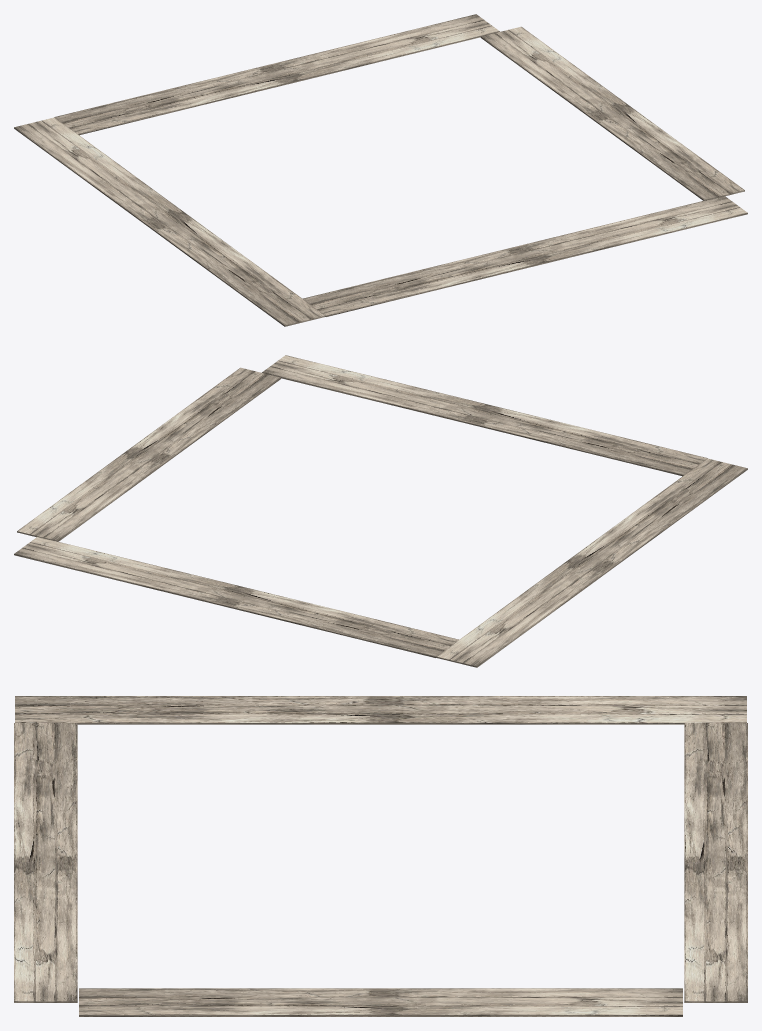
The model's file is SideWalk.fbx.
The picture shows the model from 3 angles, top to bottom: view 1: azimuth 30°, elevation 25°; view 2: azimuth 150°, elevation 25°; view 3: azimuth 270°, elevation 25°; orthographic projection. The views are drawn at different scales.
Parts seen in each view (by area): view 1: SideWalk; view 2: SideWalk; view 3: SideWalk.
Part boxes in pixels (x1,y1,x2,y2): SideWalk: (14,14,747,326); SideWalk: (14,355,747,667); SideWalk: (14,696,747,1016).
Bounding box in the file's own units: 3435 × 9.07 × 3341.
1 material, 1 textured.
